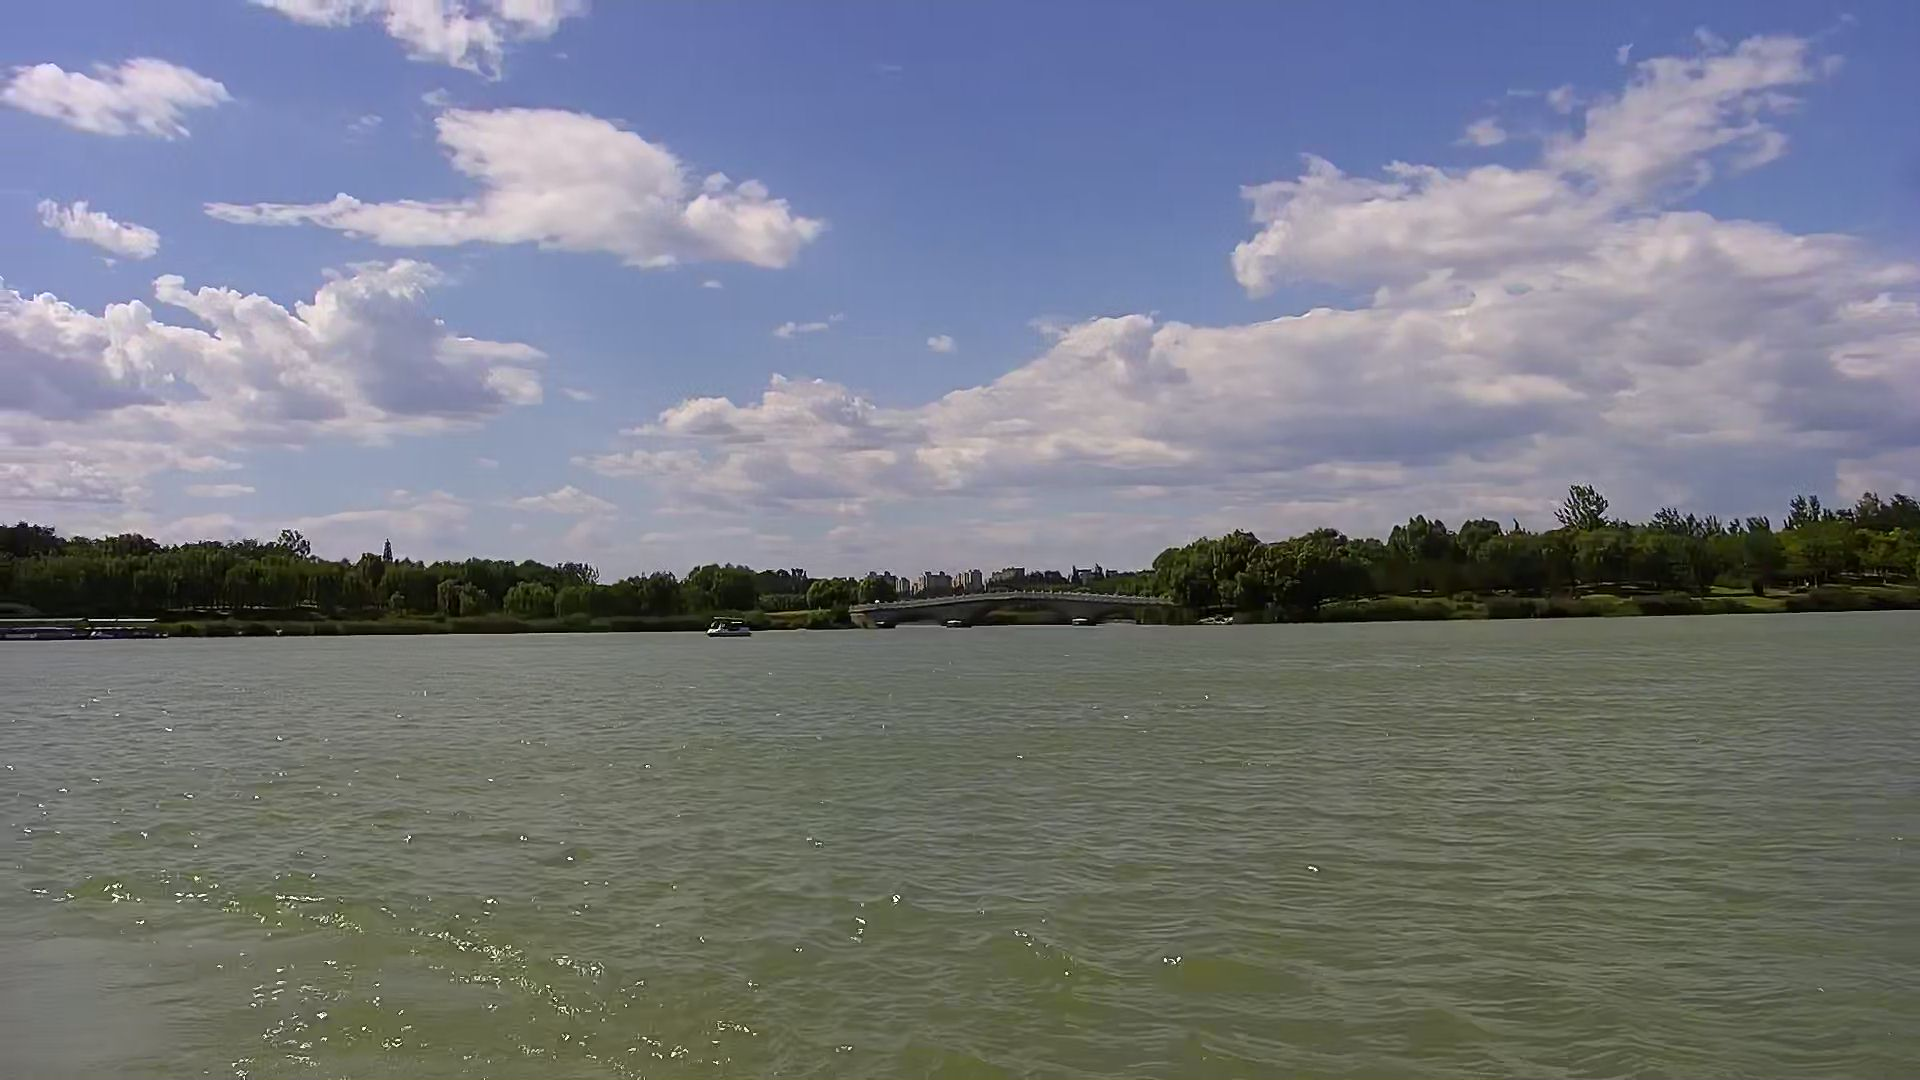boat: (705, 611, 753, 636)
bridge: (862, 591, 1183, 630)
